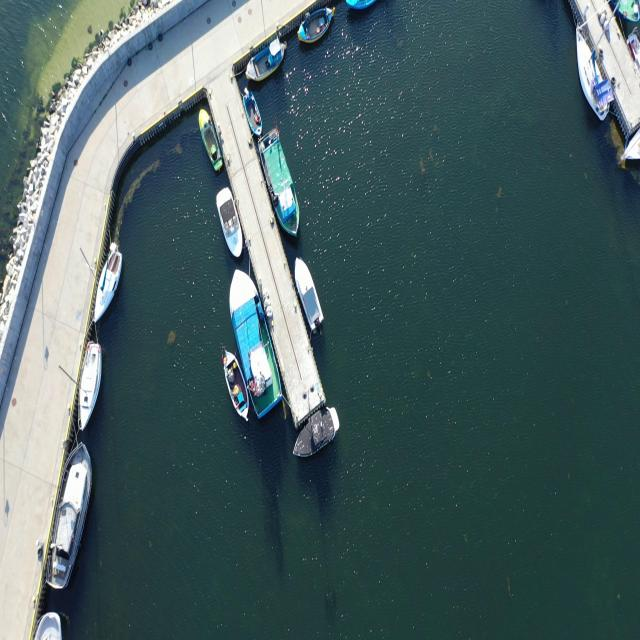boat: (228, 268, 283, 419), (45, 440, 94, 592), (257, 136, 300, 240), (293, 405, 341, 458), (293, 258, 325, 334), (222, 350, 250, 422), (215, 189, 243, 259), (244, 40, 287, 84), (196, 110, 224, 172), (296, 4, 334, 48), (241, 90, 262, 141)
sailboat: (575, 27, 610, 122), (91, 245, 123, 324), (75, 342, 103, 432)
